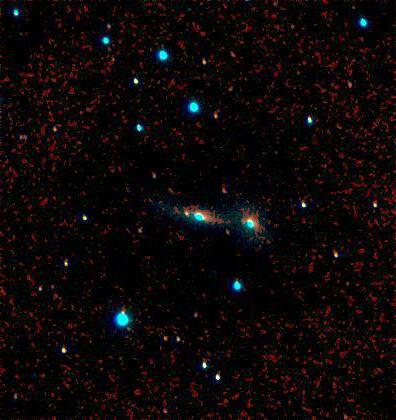star: (167, 202, 197, 232)
